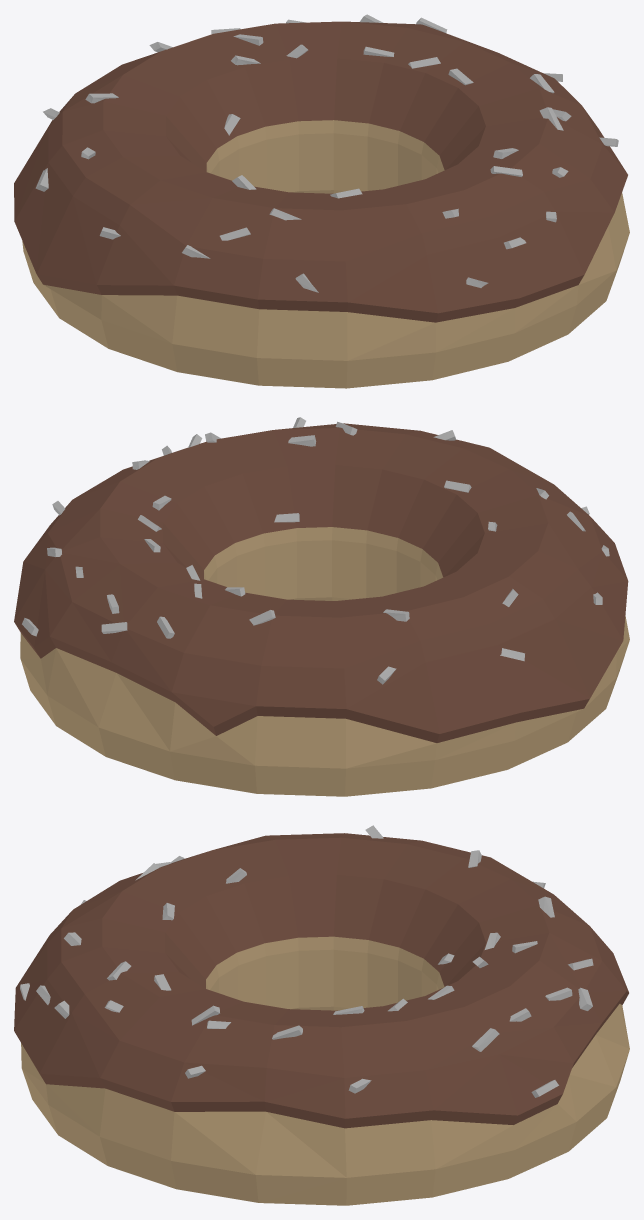
The model's file is Donut4.glb.
3 renders of one model, top to bottom at view 1: azimuth 30°, elevation 25°; view 2: azimuth 150°, elevation 25°; view 3: azimuth 270°, elevation 25°, orthographic.
Visible parts, largest first — view 1: Donut4; view 2: Donut4; view 3: Donut4.
Part boxes in pixels (left/top/right/bottom): Donut4: left=14, top=14, right=629, bottom=388; Donut4: left=14, top=417, right=629, bottom=796; Donut4: left=14, top=825, right=629, bottom=1205.
Size of the model in its own units: 0.8811 by 0.2889 by 0.8675.
